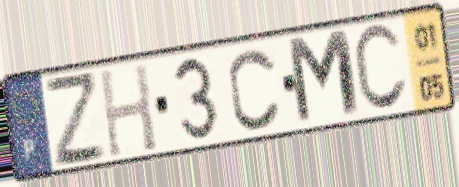3: (172, 52, 222, 147)
C: (350, 20, 411, 116), (226, 45, 284, 133)
H: (96, 60, 160, 161)
M: (284, 26, 365, 130)
Z: (41, 71, 111, 172)
